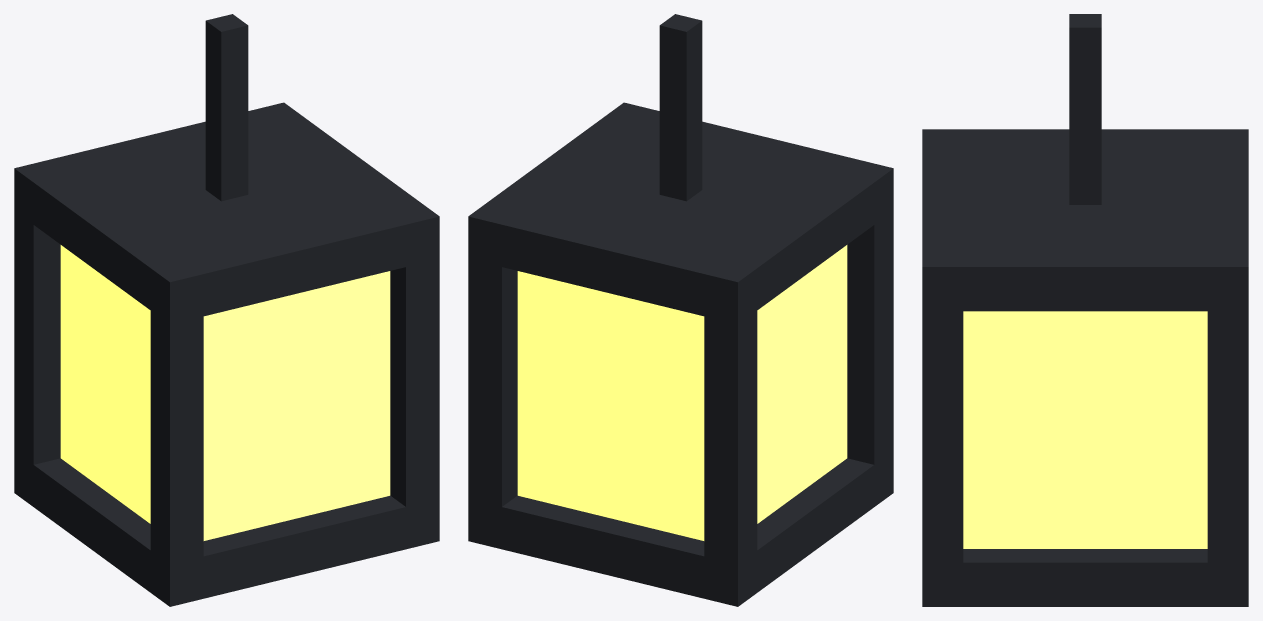
The model's file is kr-hanging-lantern.glb.
3 renders of one model, left to right at view 1: azimuth 30°, elevation 25°; view 2: azimuth 150°, elevation 25°; view 3: azimuth 270°, elevation 25°, orthographic. The views are drawn at different scales.
Visible parts, largest first — view 1: box-prop; view 2: box-prop; view 3: box-prop.
Part boxes in pixels (box(x1,y1,x2,y2)): box-prop: box(14, 14, 439, 606); box-prop: box(468, 14, 893, 606); box-prop: box(922, 14, 1248, 606).
Size of the model in its own units: 0.4 by 0.7 by 0.4.
